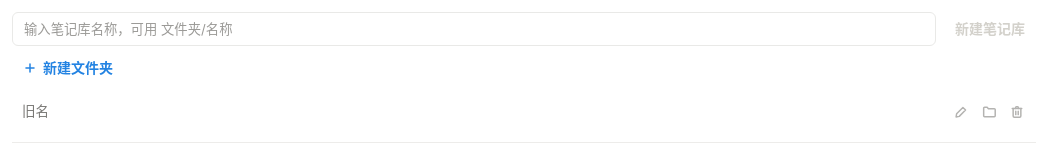
Test: TreeLauncher › renames a tree inline
The width and height of the screenshot is (1048, 160).
expect the button "旧名" is shown: met, box [12,94,952,130]
Click the button named "重命名“旧名”" at (967, 112), box [954,98,980,126]
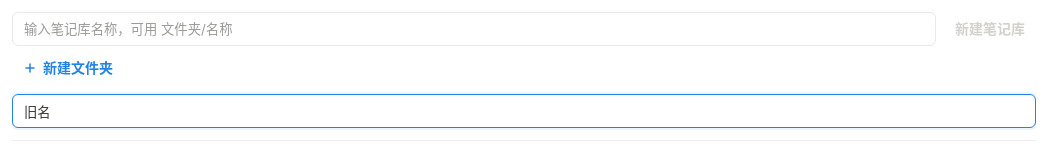
Replace the text in the field named "重命名笔记库" with "新名" at (524, 111), box [12,94,1036,128]
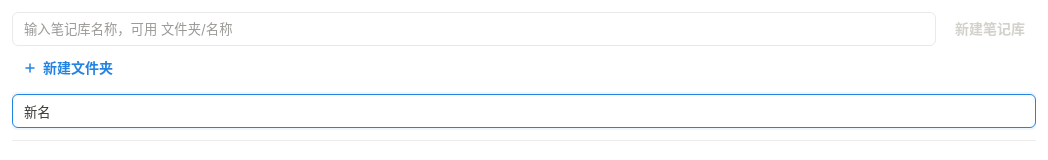
Press Enter in the field named "重命名笔记库", box [12,94,1036,128]
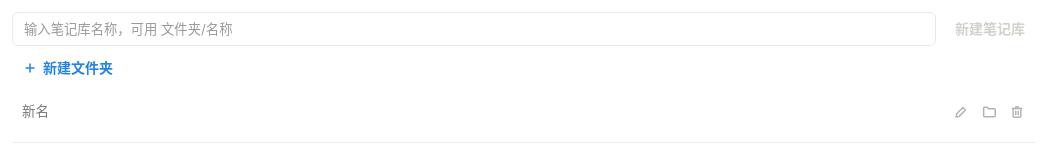
expect the button "新名" is shown: met, box [12,94,952,130]
